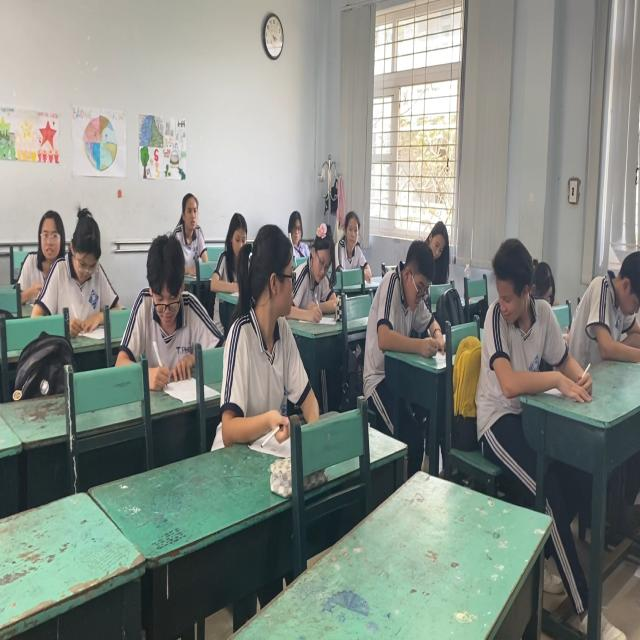cheating: (240, 216, 299, 427), (481, 239, 559, 395)
not_cheating: (128, 237, 203, 358), (376, 230, 436, 371), (59, 206, 114, 306), (300, 219, 336, 326), (332, 198, 371, 274), (168, 184, 206, 260), (29, 208, 67, 264), (216, 209, 244, 268), (430, 219, 452, 264)
